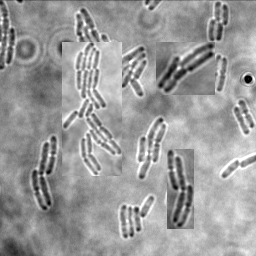Dividing: (238, 99, 255, 128), (217, 56, 228, 92), (7, 27, 17, 64), (216, 54, 222, 90)
Microcolony: (62, 42, 122, 176), (76, 7, 147, 98), (156, 42, 215, 95), (167, 149, 194, 229), (137, 117, 168, 180), (32, 135, 57, 211), (120, 195, 155, 238), (208, 1, 229, 42)
Rod: (233, 106, 251, 135), (222, 157, 240, 178)
